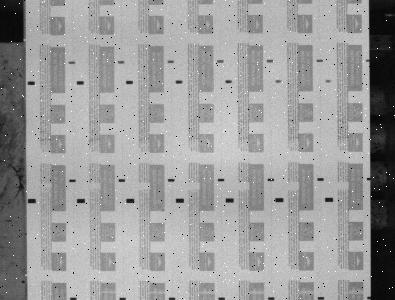backgroundclutter: (21, 280, 25, 283)
incorrect qblock: (175, 80, 183, 84), (126, 80, 133, 84), (77, 81, 84, 85), (118, 60, 124, 64), (168, 178, 174, 182), (68, 61, 75, 64), (217, 60, 224, 63), (225, 80, 232, 83), (267, 59, 274, 62), (167, 60, 174, 63), (316, 59, 323, 62), (275, 80, 282, 83), (118, 179, 125, 182), (218, 178, 225, 181), (267, 178, 274, 181), (69, 179, 76, 182), (326, 79, 331, 83), (366, 177, 371, 180), (367, 296, 371, 299), (366, 59, 370, 62)
qblock: (126, 198, 135, 203), (225, 198, 234, 203), (77, 198, 85, 203), (176, 198, 184, 203), (325, 197, 333, 202), (28, 198, 36, 203), (275, 198, 284, 202), (27, 81, 35, 85)
smallqblock: (69, 296, 76, 300), (118, 296, 125, 300), (267, 296, 274, 300), (217, 296, 224, 300), (168, 296, 175, 300), (318, 296, 324, 300), (317, 178, 324, 181)
